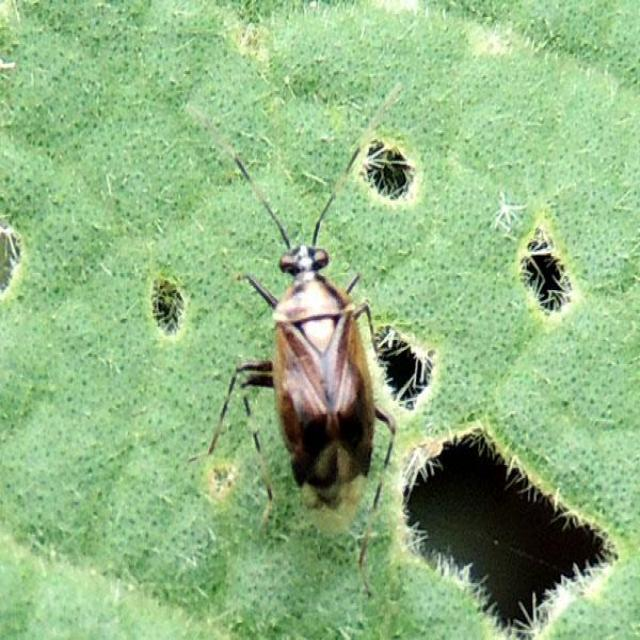Miridae-Adult-: (219, 130, 402, 570)
